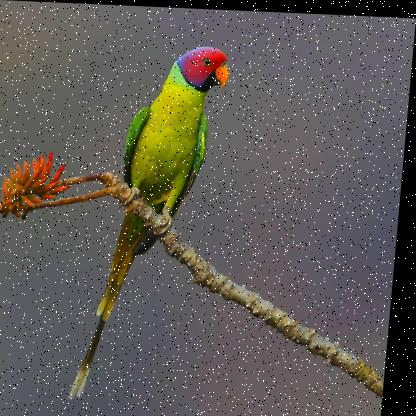Burung: (73, 39, 231, 406)
